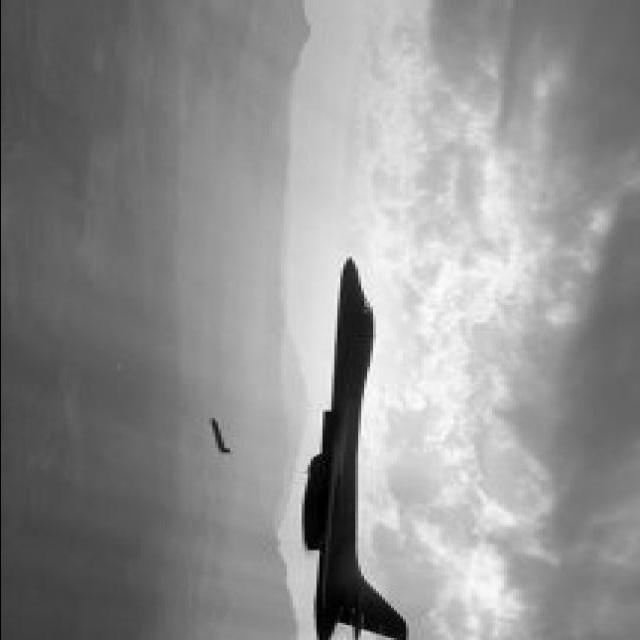Missile: (206, 408, 233, 458)
